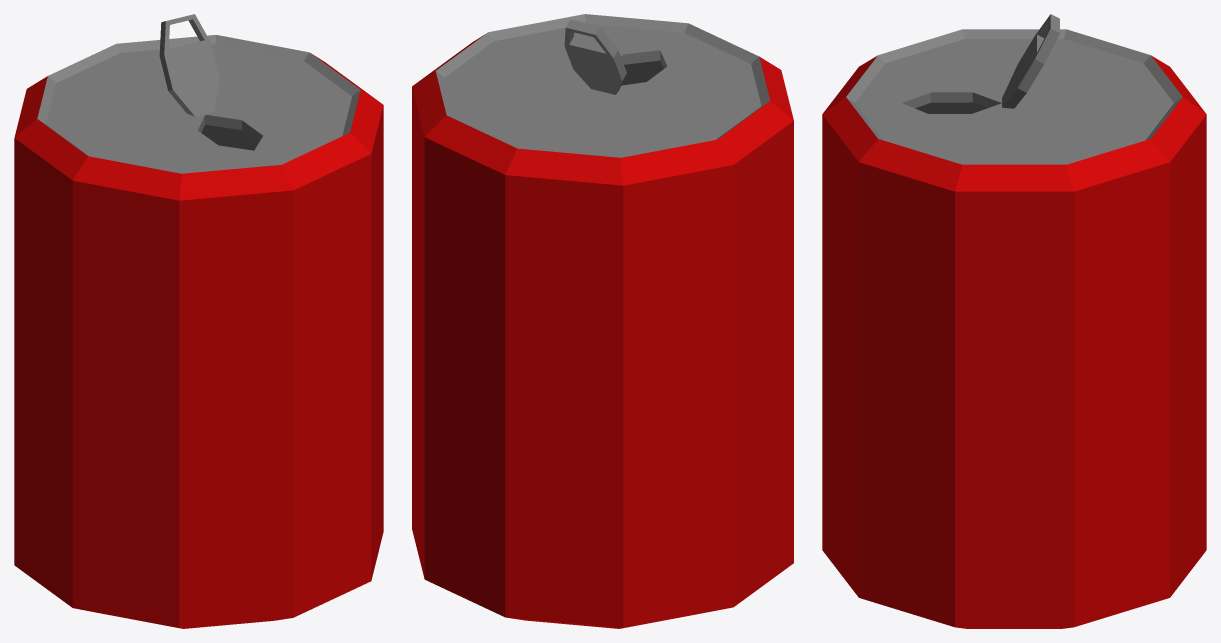
The model's file is blikje cola.fbx.
3 views of the same model, side by side, from view 1: azimuth 30°, elevation 25°; view 2: azimuth 150°, elevation 25°; view 3: azimuth 270°, elevation 25° (orthographic). The views are drawn at different scales.
Visible parts, largest first — view 1: Cylinder; view 2: Cylinder; view 3: Cylinder.
Part boxes in pixels (box(x1,y1,x2,y2)): Cylinder: box(14, 14, 383, 628); Cylinder: box(412, 14, 793, 628); Cylinder: box(822, 14, 1206, 628).
Bounding box in the file's own units: 0.1213 × 0.1998 × 0.1276.
